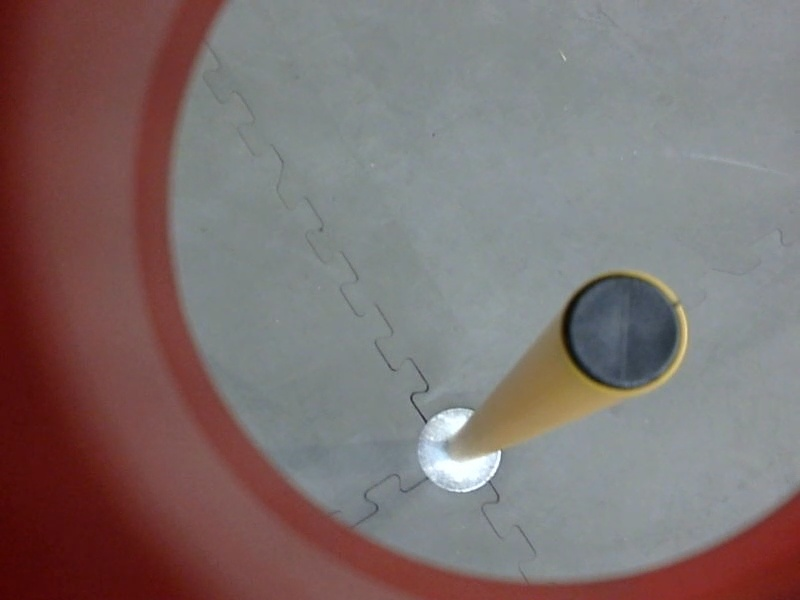tip: (556, 260, 694, 404)
